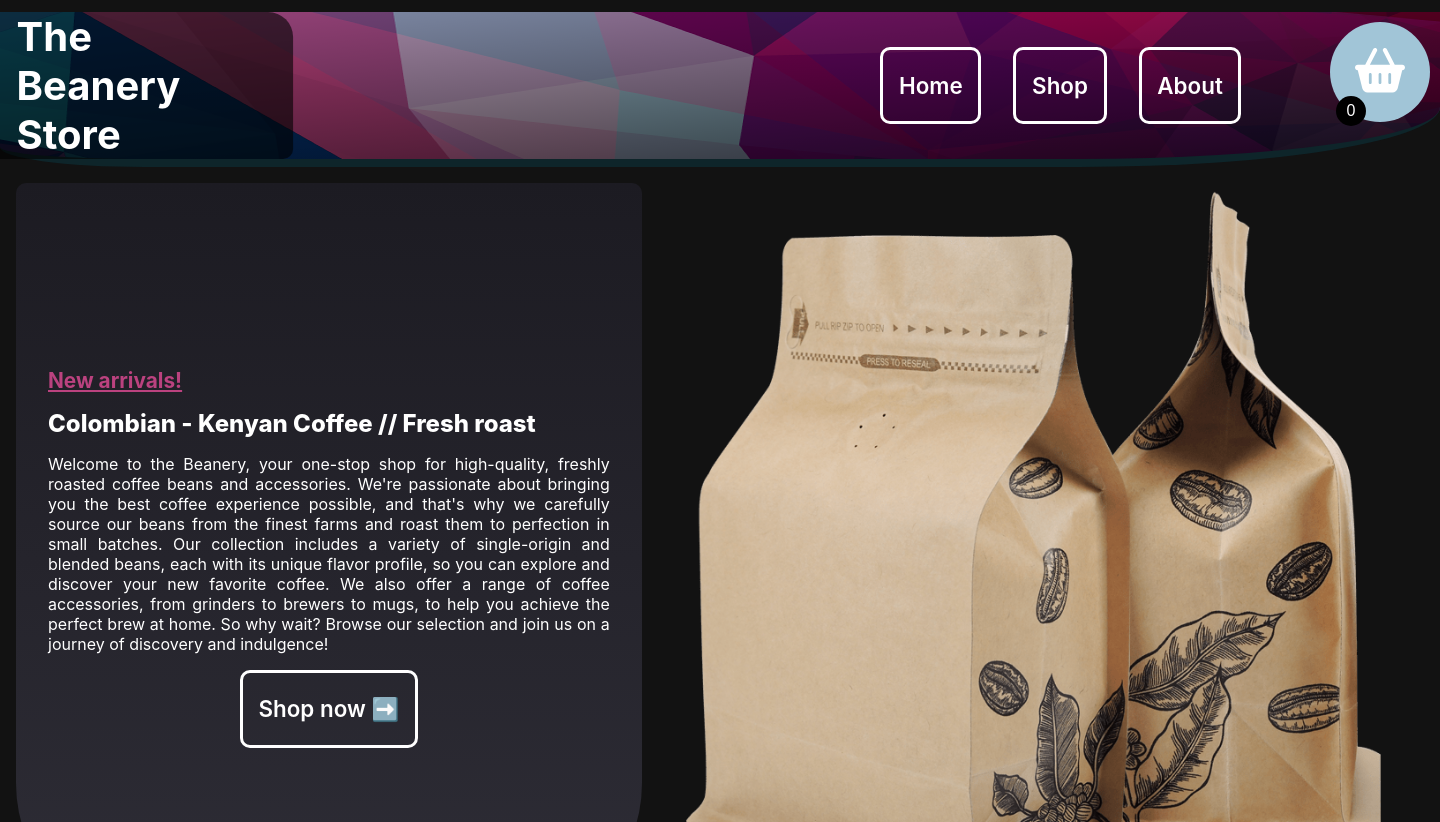
Test case: Testing Product component › Has a quantity state of 1 on render
Click the link "Shop" at [1060, 86], box [1013, 47, 1107, 124]
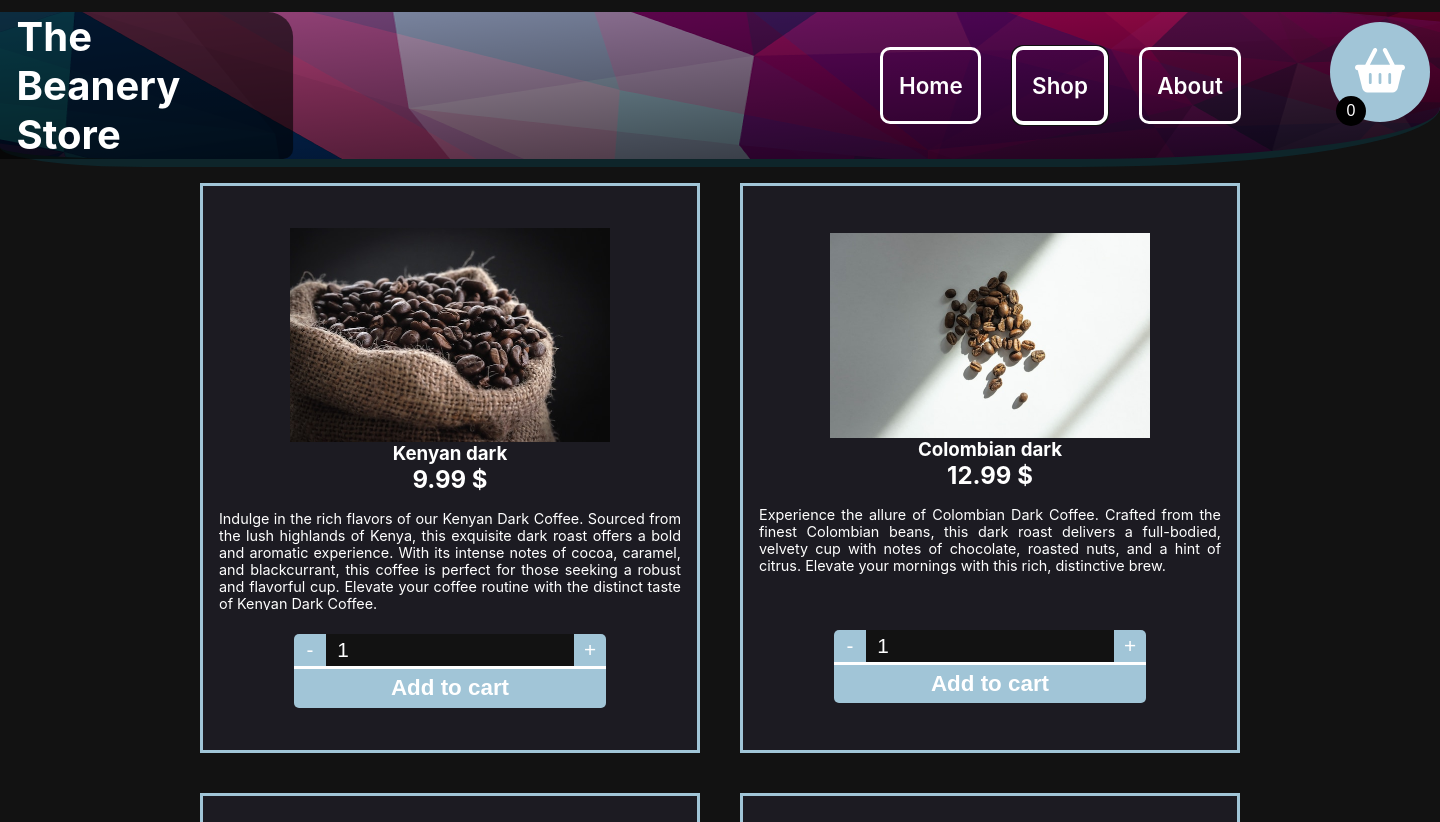
Now the field below "9.99" holds "1", box [326, 634, 574, 666]
